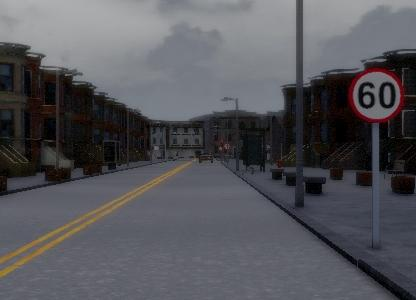Speed_60: (350, 69, 409, 126)
